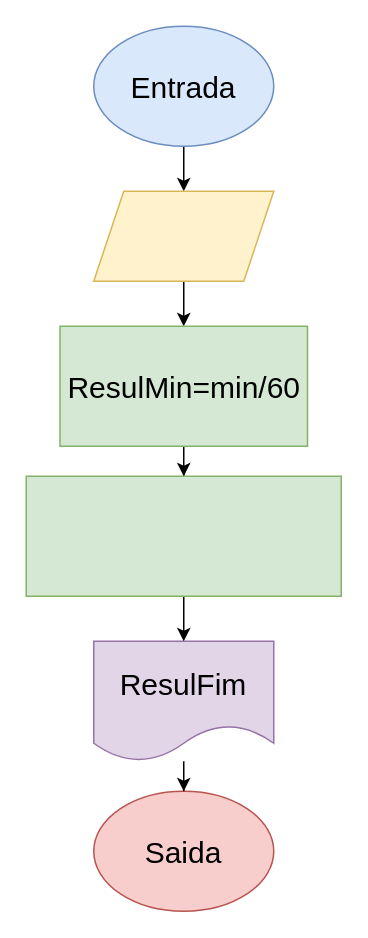
Image size: 368x938. Some labels were removed from this diagram. Here are the shapes that lost their labels. From the top down, the box of each, then its label:
(92, 190, 274, 281): H, min
(25, 475, 341, 596): ResulFim=H+ResulMin
